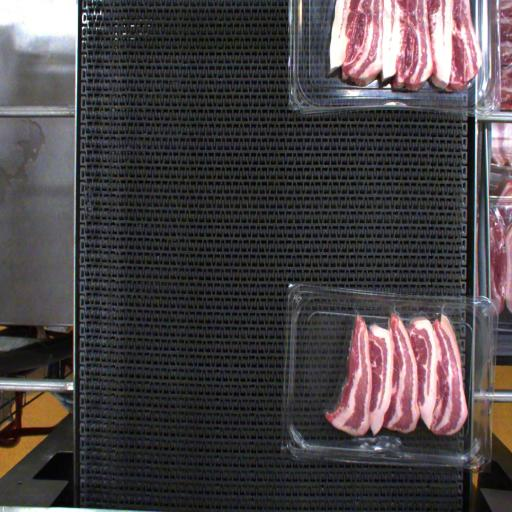unsealed: (332, 302, 465, 416)
